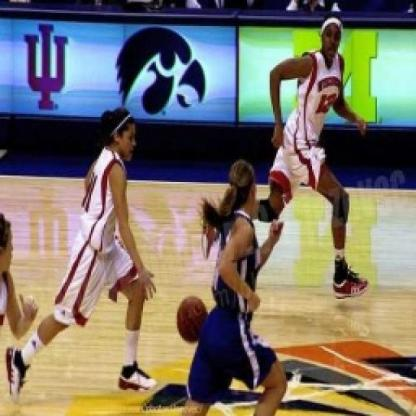basketball: (176, 295, 208, 345)
